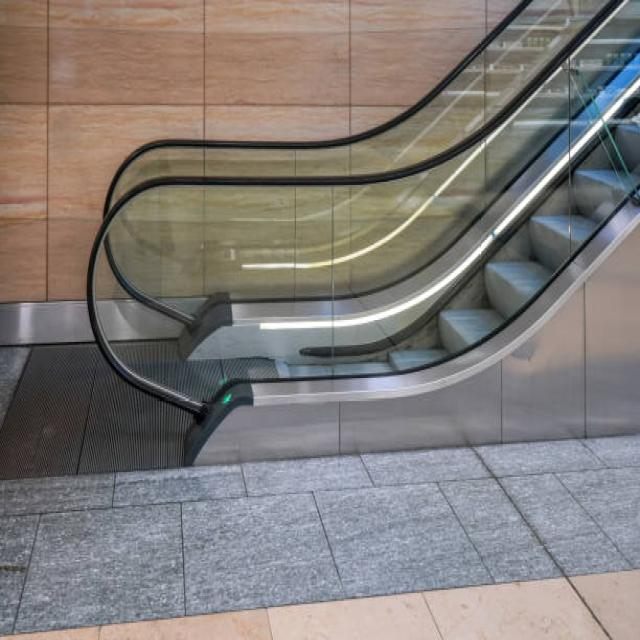escalator: (0, 0, 639, 499)
